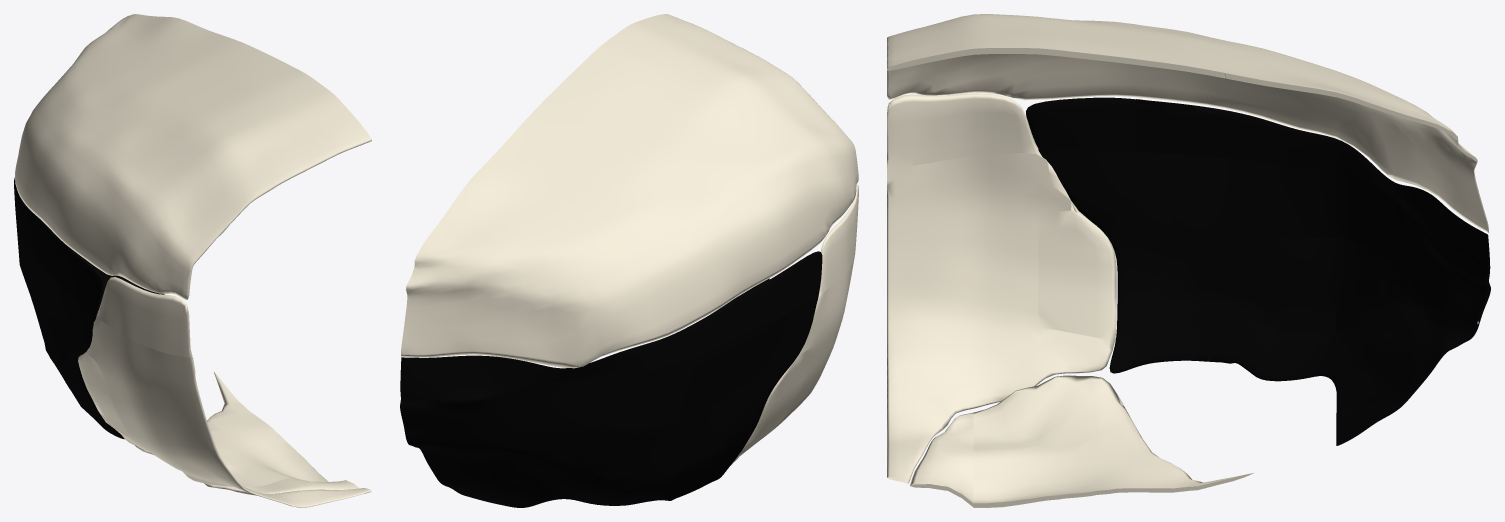
The model's file is OssHalfTurbo2.FBX.
3 renders of one model, left to right at view 1: azimuth 30°, elevation 25°; view 2: azimuth 150°, elevation 25°; view 3: azimuth 270°, elevation 25°, orthographic. The views are drawn at different scales.
Parts seen in each view (by area): view 1: osFrontale, osZygomaticum, osSphenoildale, osMaxilla; view 2: osFrontale, osSphenoildale, osZygomaticum; view 3: osSphenoildale, osZygomaticum, osFrontale, osMaxilla.
Boxes of the visible parts, x1,y1,x2,y2 form: osFrontale: [15, 14, 371, 299]; osZygomaticum: [78, 277, 371, 507]; osSphenoildale: [14, 177, 164, 439]; osMaxilla: [135, 372, 359, 495]; osFrontale: [401, 14, 858, 368]; osSphenoildale: [400, 251, 822, 507]; osZygomaticum: [730, 185, 858, 465]; osSphenoildale: [1026, 97, 1490, 445]; osZygomaticum: [887, 93, 1116, 483]; osFrontale: [887, 14, 1488, 232]; osMaxilla: [910, 375, 1253, 507].
Size of the model in its own units: 0.7342 by 1.32 by 1.56.
